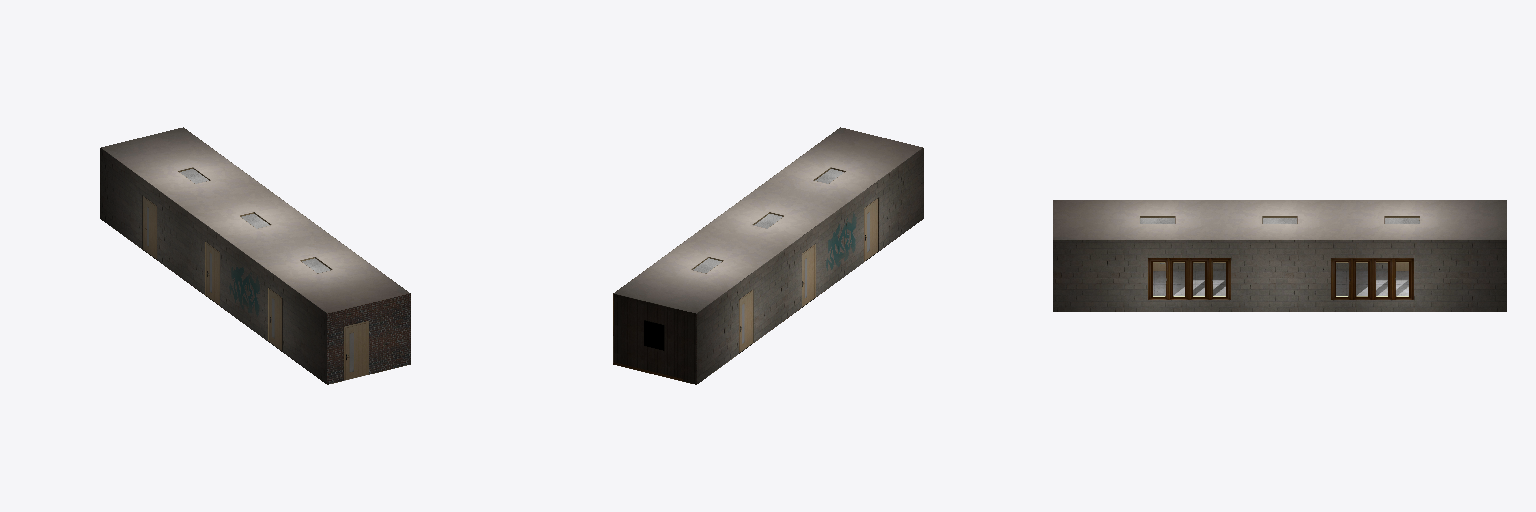
3 renders of one model, left to right at view 1: azimuth 30°, elevation 25°; view 2: azimuth 150°, elevation 25°; view 3: azimuth 270°, elevation 25°, orthographic.
Visible parts, largest first — view 1: group_0_ID4, group_3_ID27, group_8_ID76, group_15_ID129, group_13_ID115, group_12_ID108, group_14_ID122; view 2: group_0_ID4, group_3_ID27, group_2_ID20, group_14_ID122, group_12_ID108, group_13_ID115; view 3: group_6_ID62, group_0_ID4, group_1_ID13, group_4_ID48, group_5_ID55, group_3_ID27.
Boxes of the visible parts, x1,y1,x2,y2 form: group_0_ID4: [101, 127, 409, 313]; group_3_ID27: [100, 148, 326, 383]; group_8_ID76: [327, 293, 410, 384]; group_15_ID129: [344, 321, 368, 379]; group_13_ID115: [205, 242, 219, 305]; group_12_ID108: [143, 196, 156, 258]; group_14_ID122: [268, 288, 281, 350]; group_0_ID4: [614, 127, 922, 313]; group_3_ID27: [697, 148, 923, 383]; group_2_ID20: [613, 293, 696, 384]; group_14_ID122: [864, 198, 878, 261]; group_12_ID108: [739, 289, 753, 352]; group_13_ID115: [802, 244, 815, 306]; group_6_ID62: [1053, 240, 1506, 311]; group_0_ID4: [1053, 200, 1506, 239]; group_1_ID13: [1153, 271, 1408, 295]; group_4_ID48: [1331, 258, 1413, 299]; group_5_ID55: [1148, 258, 1230, 299]; group_3_ID27: [1173, 263, 1387, 270].
Size of the model in its own units: 3.4 by 2.74 by 15.84.
Materials: 1 (1 with a texture image).